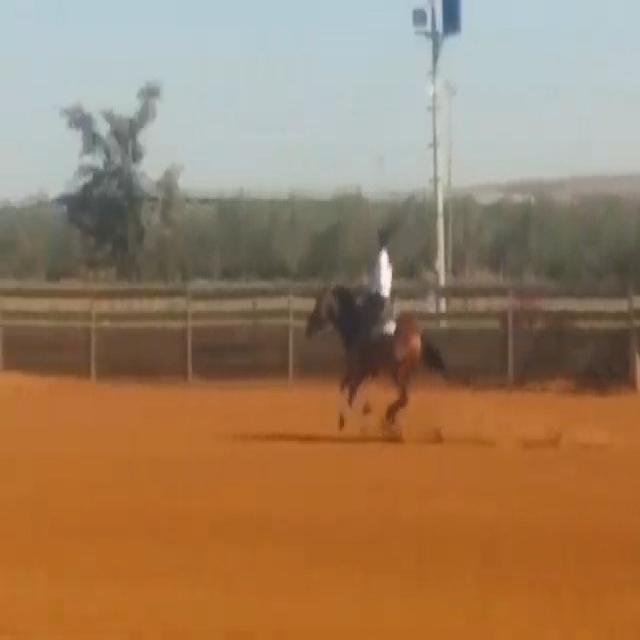horse: (302, 277, 447, 432)
